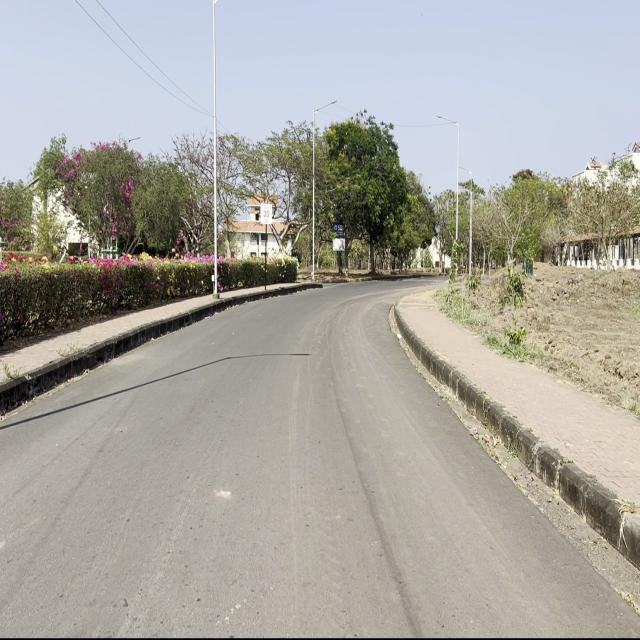Road: (3, 284, 638, 636)
